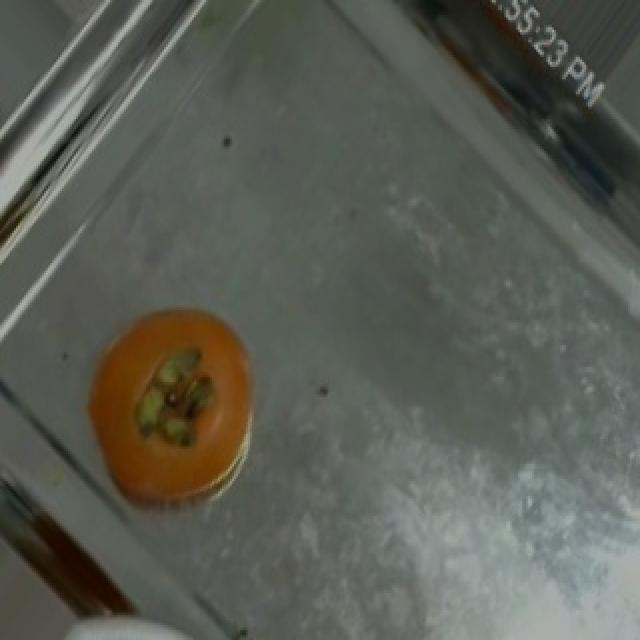Fruit: (62, 288, 280, 531)
